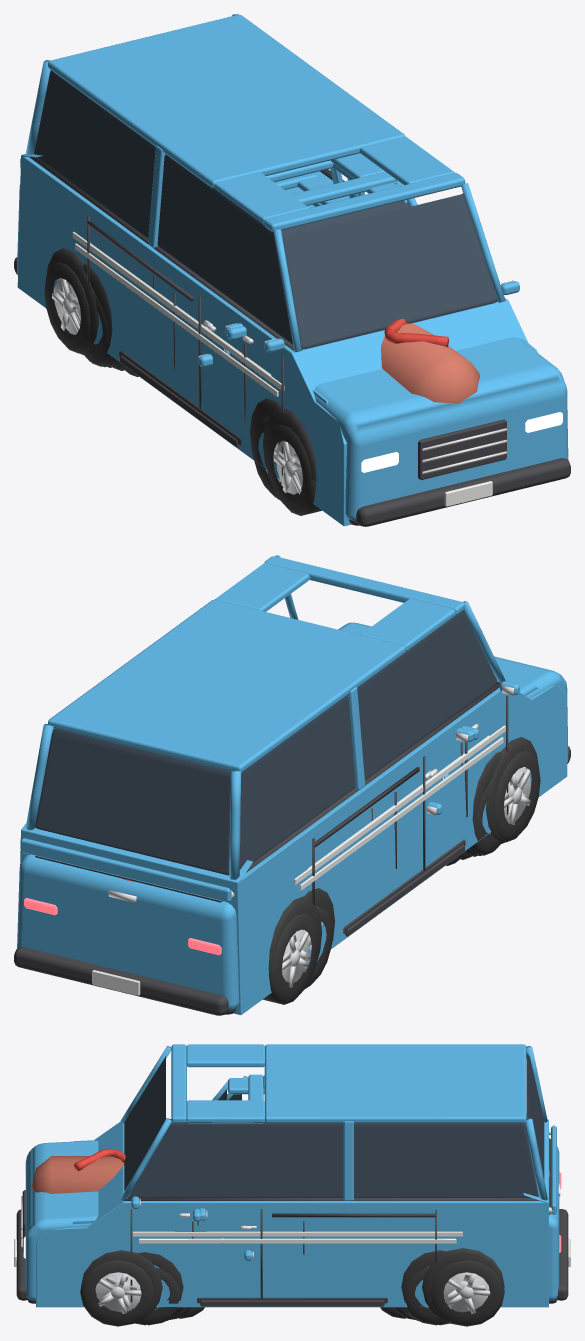
File: cars.glb
3 views of the same model, one above another, from view 1: azimuth 30°, elevation 25°; view 2: azimuth 150°, elevation 25°; view 3: azimuth 270°, elevation 25° (orthographic). The views are drawn at different scales.
Visible parts, largest first — view 1: car_van_paint, car_van_glass, car_pickup_paint, car_pickup_trim, car_hotdog_sausage, car_van_trim, car_van_tyre, car_pickup_tyre, car_suv_paint, car_van_accent_rim, car_pickup_accent, car_van_accent (+7 smaller); view 2: car_van_paint, car_van_glass, car_pickup_paint, car_pickup_trim, car_van_trim, car_van_tyre, car_pickup_tyre, car_van_accent_rim, car_pickup_accent, car_van_accent, car_suv_tyre, car_hotdog_tyre (+2 smaller); view 3: car_van_paint, car_van_glass, car_pickup_paint, car_van_tyre, car_van_trim, car_pickup_tyre, car_hotdog_sausage, car_pickup_trim, car_van_accent_rim, car_pickup_accent, car_van_accent, car_hotdog_tyre (+4 smaller).
Boxes of the visible parts, left/top/right/bottom form: car_van_paint: left=17, top=14, right=567, bottom=526; car_van_glass: left=34, top=70, right=497, bottom=349; car_pickup_paint: left=17, top=158, right=568, bottom=520; car_pickup_trim: left=14, top=257, right=570, bottom=526; car_hotdog_sausage: left=381, top=323, right=479, bottom=403; car_van_trim: left=29, top=157, right=504, bottom=525; car_van_tyre: left=44, top=262, right=321, bottom=515; car_pickup_tyre: left=46, top=248, right=316, bottom=498; car_suv_paint: left=225, top=153, right=537, bottom=404; car_van_accent_rim: left=52, top=278, right=302, bottom=494; car_pickup_accent: left=72, top=232, right=284, bottom=390; car_van_accent: left=75, top=243, right=278, bottom=396; car_van_paint: left=20, top=555, right=567, bottom=1014; car_van_glass: left=35, top=610, right=497, bottom=875; car_pickup_paint: left=17, top=622, right=568, bottom=1009; car_pickup_trim: left=14, top=742, right=570, bottom=1015; car_van_trim: left=225, top=682, right=508, bottom=1014; car_van_tyre: left=263, top=751, right=540, bottom=1004; car_pickup_tyre: left=268, top=737, right=538, bottom=986; car_van_accent_rim: left=282, top=767, right=530, bottom=987; car_pickup_accent: left=294, top=725, right=505, bottom=884; car_van_accent: left=299, top=737, right=503, bottom=890; car_suv_tyre: left=305, top=751, right=502, bottom=988; car_hotdog_tyre: left=298, top=781, right=502, bottom=986; car_van_paint: left=36, top=1044, right=548, bottom=1307; car_van_glass: left=124, top=1052, right=544, bottom=1197; car_pickup_paint: left=25, top=1078, right=559, bottom=1300; car_van_tyre: left=80, top=1260, right=504, bottom=1326; car_van_trim: left=27, top=1119, right=557, bottom=1306; car_pickup_tyre: left=81, top=1248, right=504, bottom=1323; car_hotdog_sausage: left=31, top=1156, right=549, bottom=1193; car_pickup_trim: left=16, top=1190, right=568, bottom=1303; car_van_accent_rim: left=95, top=1272, right=490, bottom=1313; car_pickup_accent: left=132, top=1231, right=462, bottom=1236; car_van_accent: left=138, top=1238, right=456, bottom=1243; car_hotdog_tyre: left=132, top=1267, right=455, bottom=1325.
Size of the model in its own units: 2.24 by 2.19 by 5.43.
